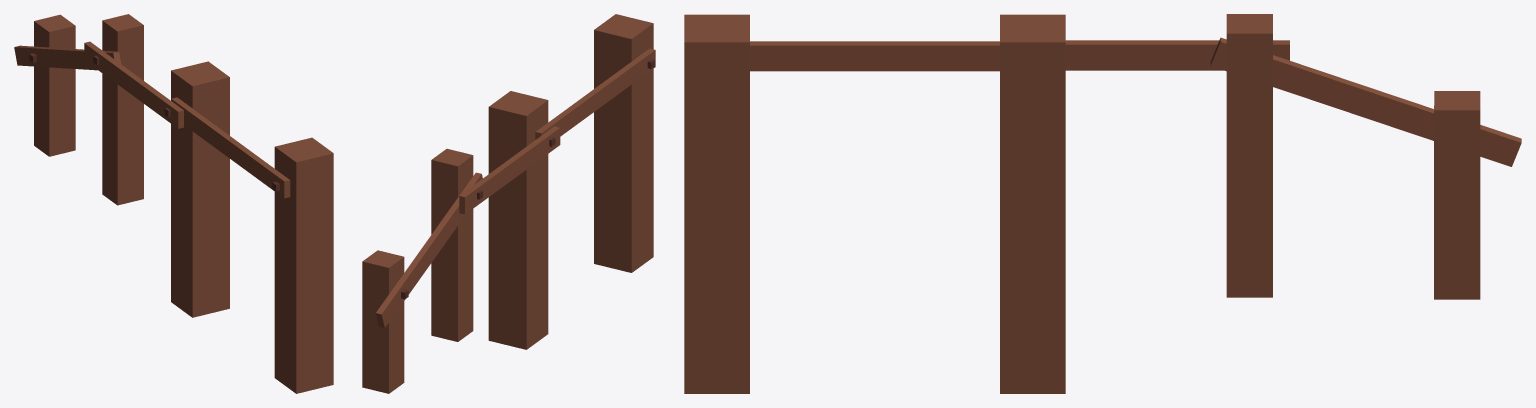
File: landing_ rallings_2.fbx
3 views of the same model, side by side, from view 1: azimuth 30°, elevation 25°; view 2: azimuth 150°, elevation 25°; view 3: azimuth 270°, elevation 25° (orthographic). The views are drawn at different scales.
Visible parts, largest first — view 1: pier railings; view 2: pier railings; view 3: pier railings.
Boxes of the visible parts, x1=… form: pier railings: x1=14, y1=14, x2=333, y2=393; pier railings: x1=362, y1=14, x2=655, y2=393; pier railings: x1=684, y1=14, x2=1521, y2=393.
Size of the model in its own units: 19.59 by 81.93 by 177.
